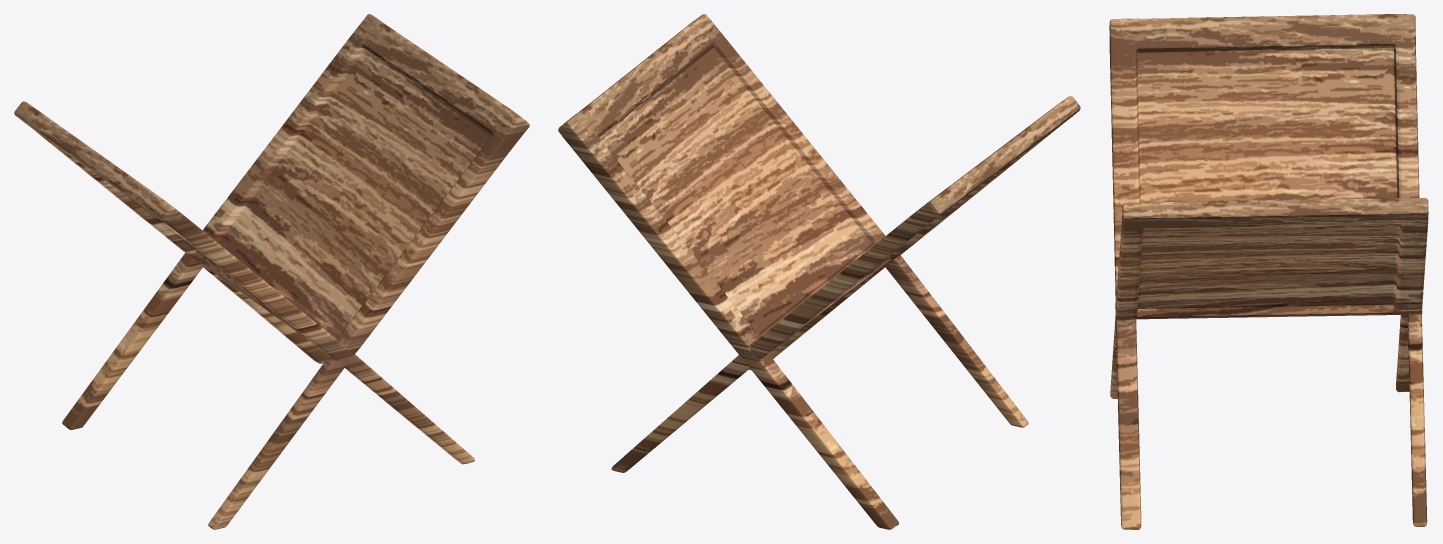
The model's file is TV magazin holder.fbx.
The picture shows the model from 3 angles, left to right: view 1: azimuth 30°, elevation 25°; view 2: azimuth 150°, elevation 25°; view 3: azimuth 270°, elevation 25°; orthographic projection. The views are drawn at different scales.
Parts seen in each view (by area): view 1: magazine (×2); view 2: magazine (×2); view 3: magazine (×2).
Part boxes in pixels (x1,y1,x2,y2): magazine (×2): (14,14,529,529); magazine (×2): (558,14,1080,529); magazine (×2): (1109,14,1428,529).
Bounding box in the file's own units: 7.53 × 6.4 × 5.21.
